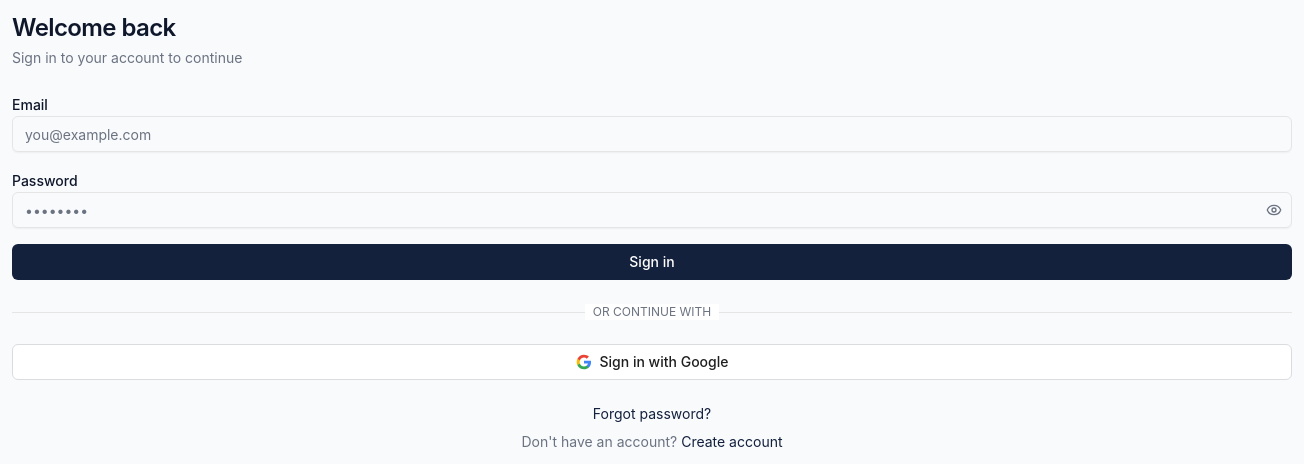
Test: LoginForm › disables submit button while pending
This screenshot has width=1304, height=464.
Type "user@example.com" into the field labelled "Email" at (652, 134), box [12,116,1292,152]
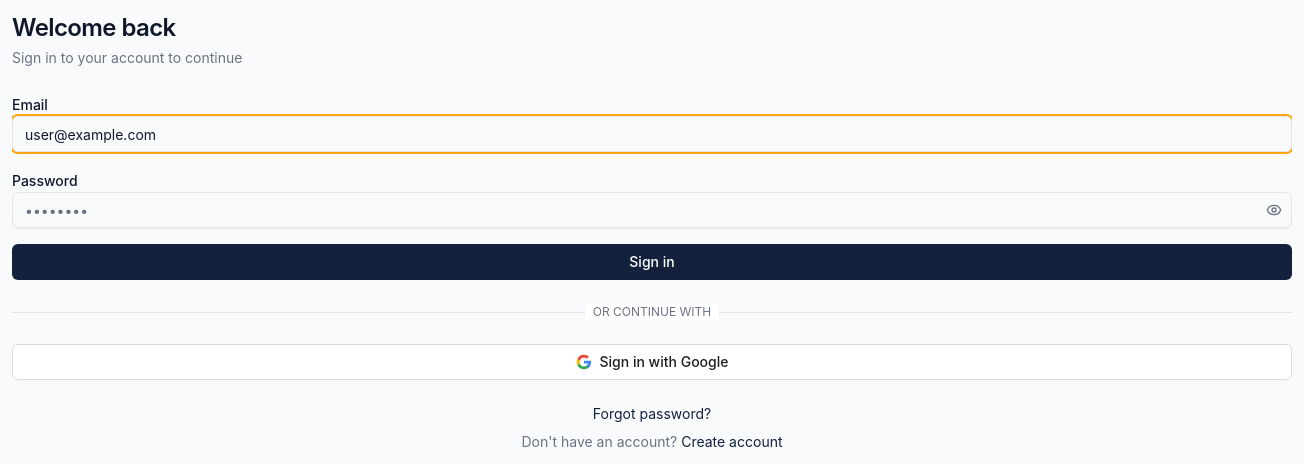
Type "Password1" into the password field labelled "Password" at (652, 210), box [12,192,1292,228]
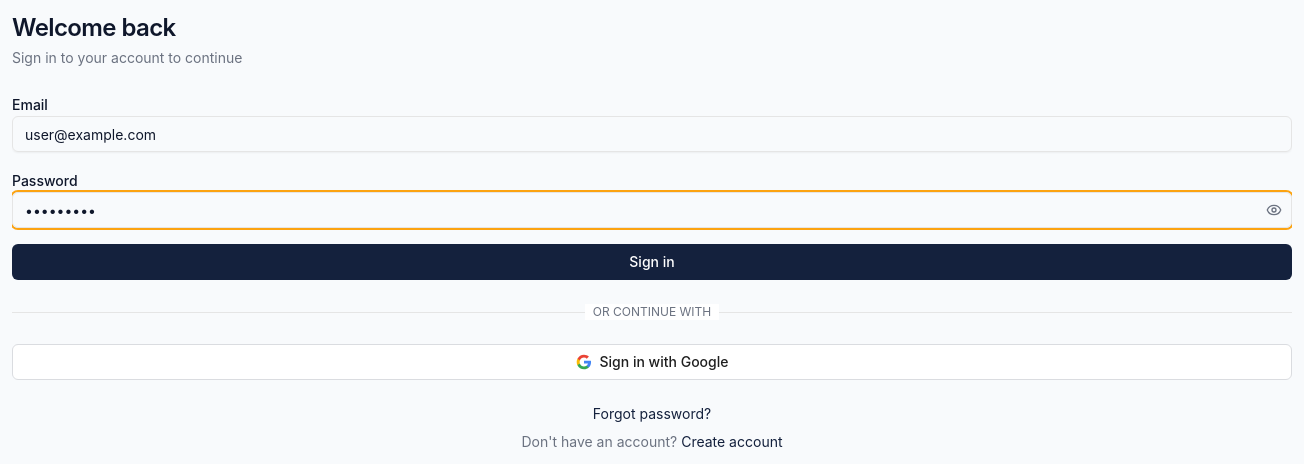
Click the button "Sign in" at (652, 262), box [12,244,1292,280]
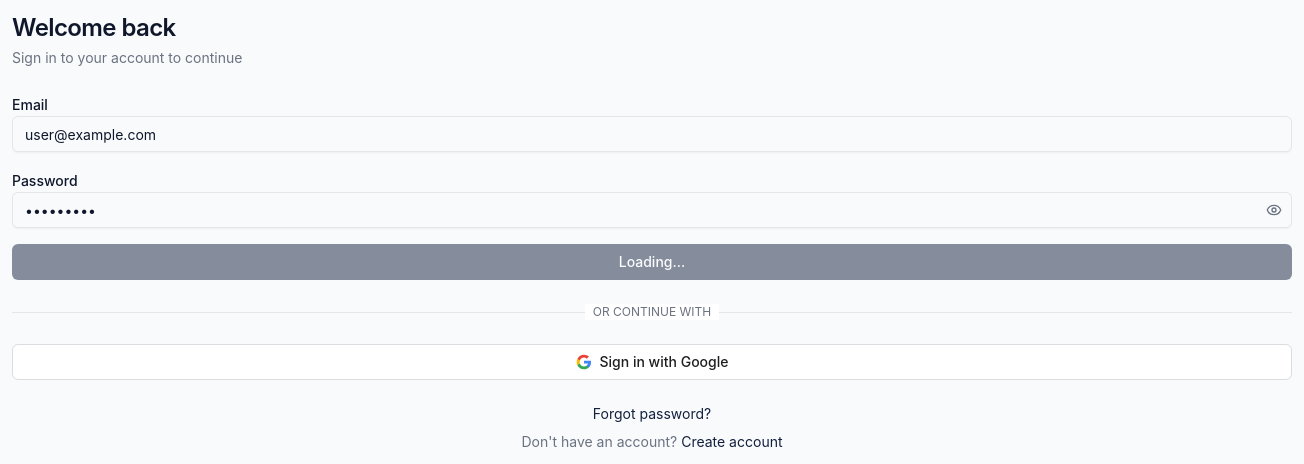
Expected: the button "Loading…" is disabled, [12,244,1292,280]
